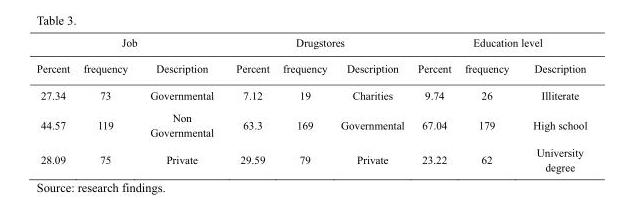table: (35, 35, 586, 172)
table column: (138, 35, 224, 172), (333, 35, 410, 172), (520, 35, 586, 172), (75, 35, 138, 172), (457, 35, 520, 172), (275, 35, 333, 172), (224, 35, 275, 172), (410, 35, 457, 172), (35, 35, 75, 172)
table column header: (35, 35, 586, 81)
table row: (35, 106, 586, 142), (35, 142, 586, 172), (35, 54, 586, 81), (35, 81, 586, 106), (35, 35, 586, 54)
table spanning cell: (35, 35, 224, 54), (224, 35, 410, 54), (410, 35, 586, 54)
